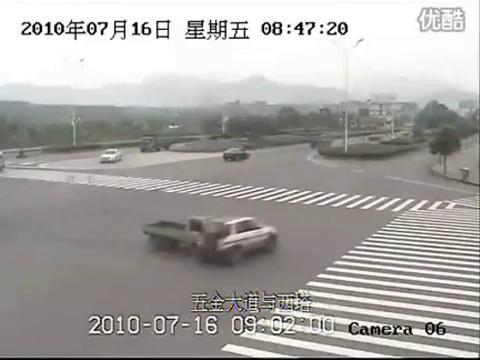car-accident: (140, 216, 279, 266)
